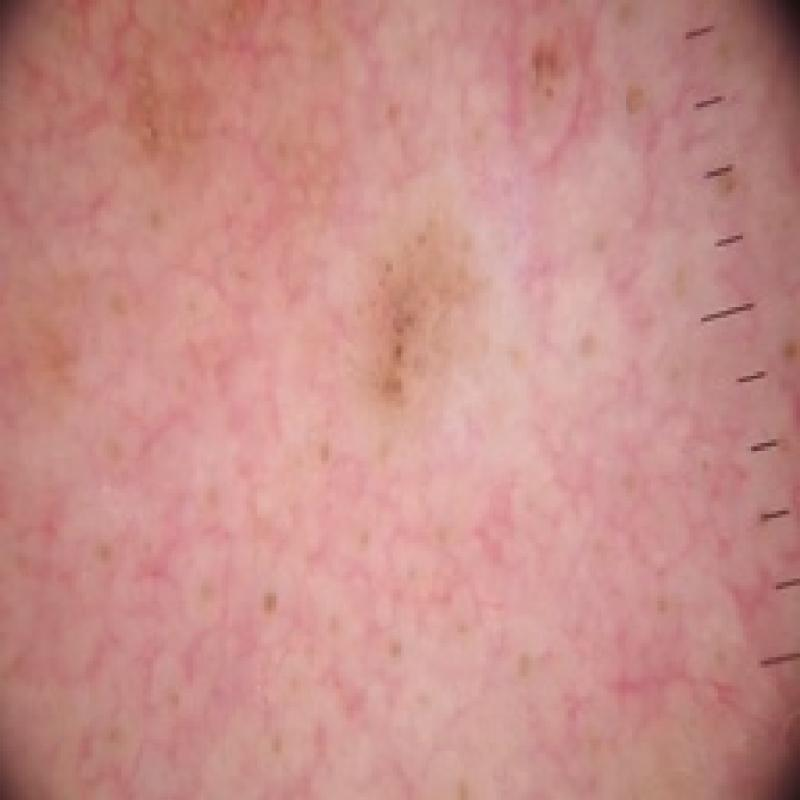malignant: (333, 205, 524, 419), (482, 16, 656, 135), (98, 44, 196, 188)
